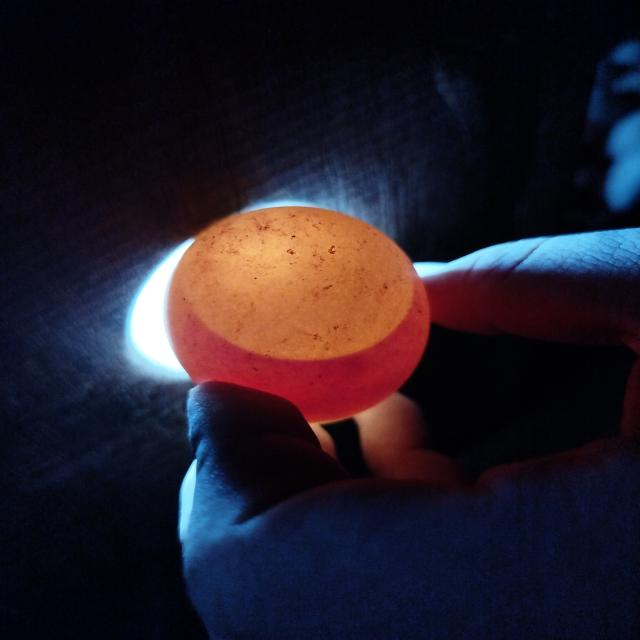Camara de Ar: (180, 206, 413, 359)
